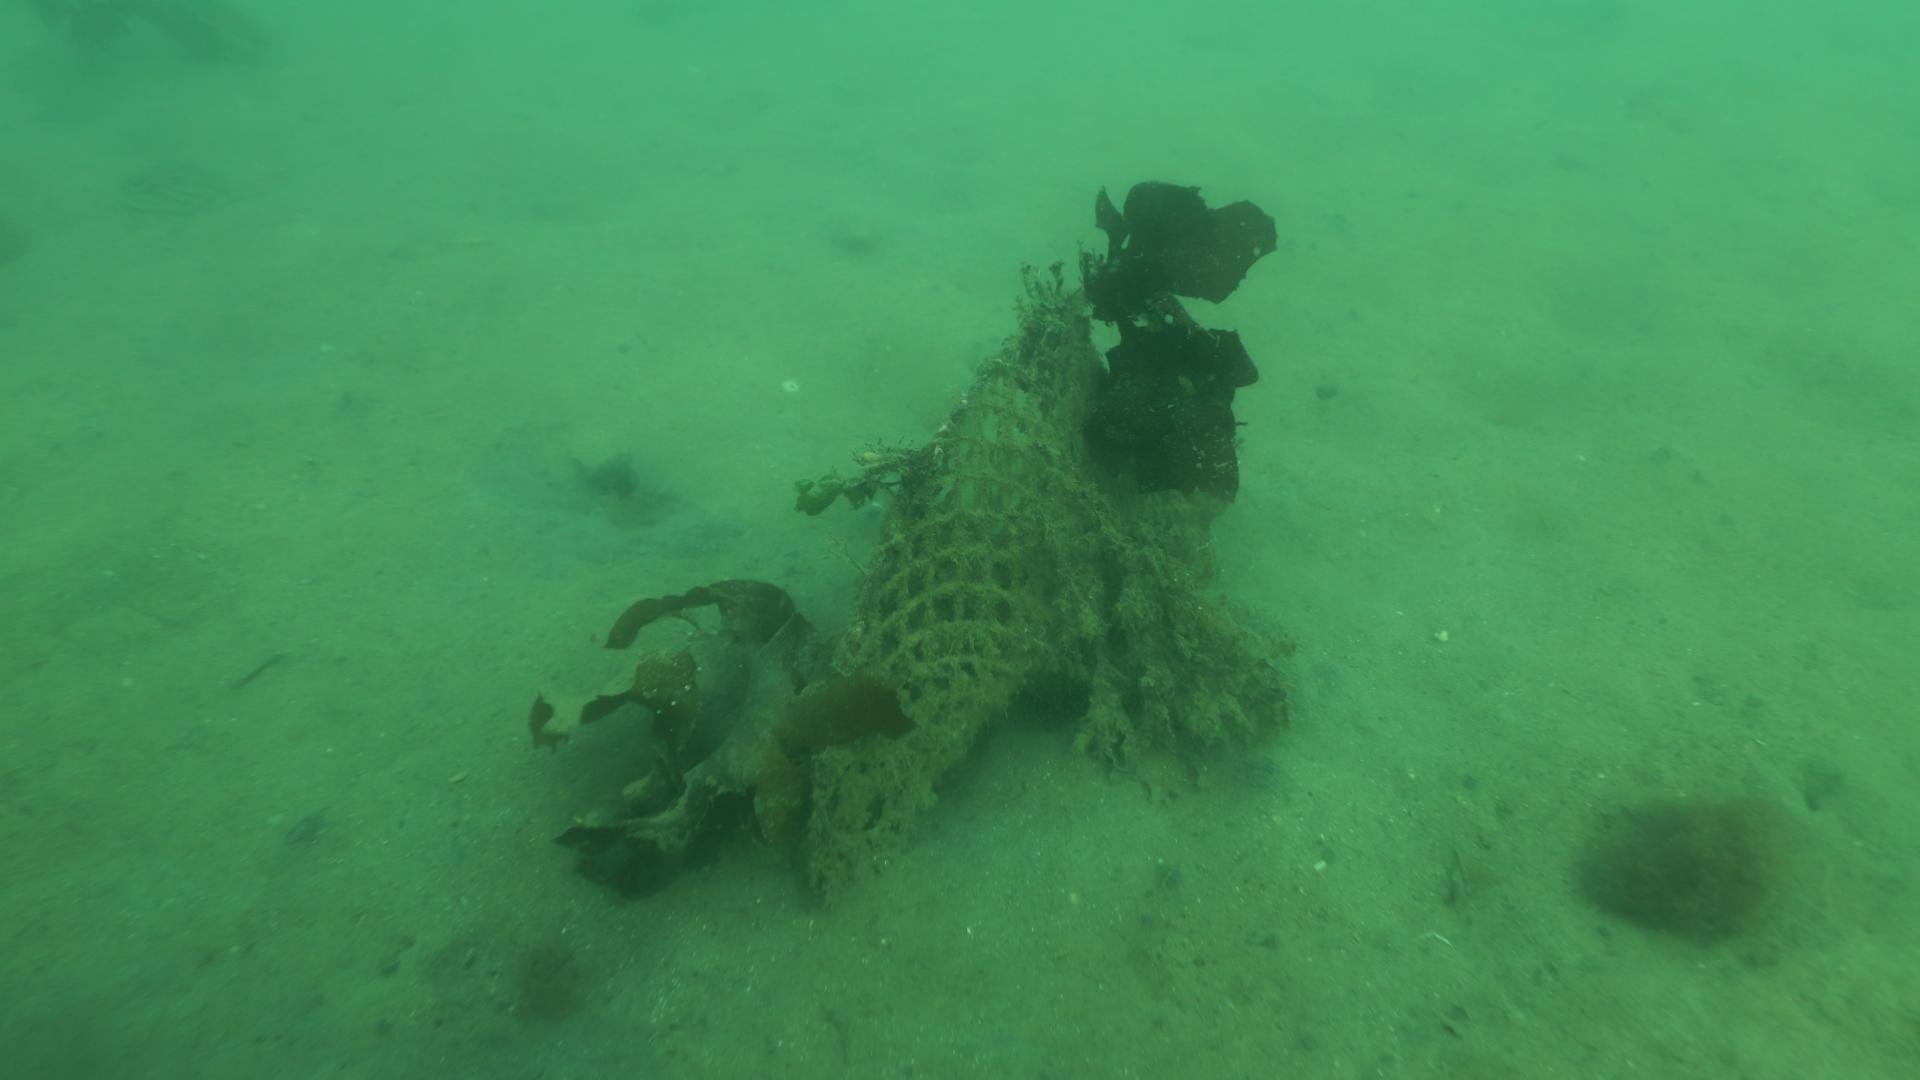fish net: (829, 316, 1071, 703)
